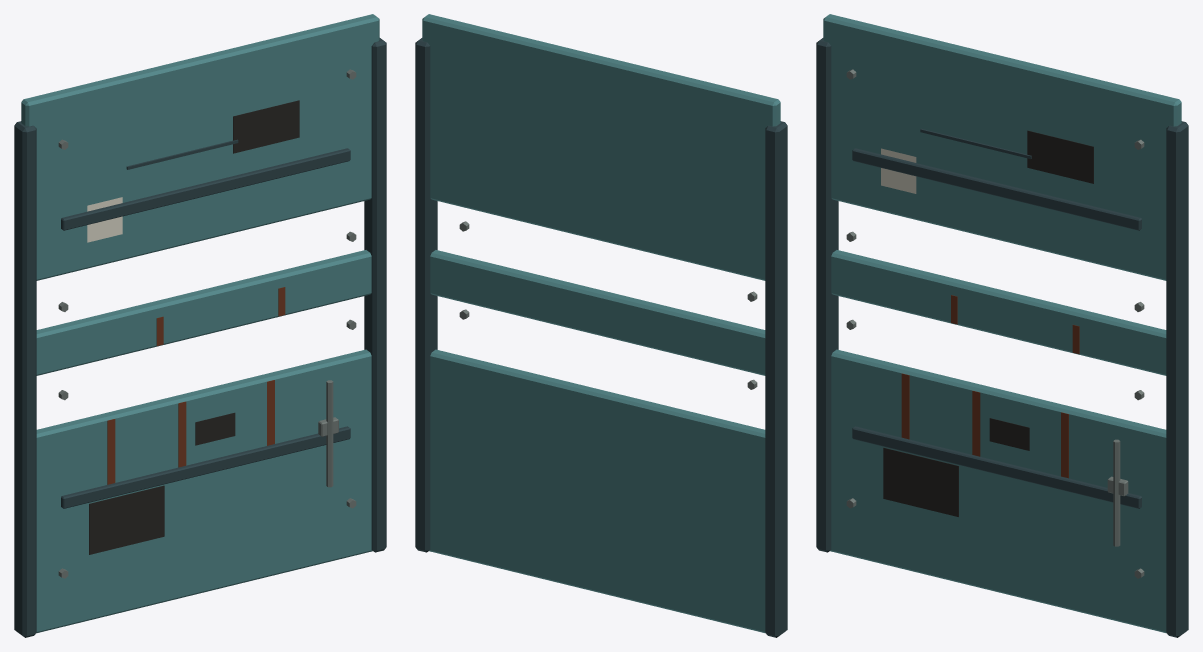
File: locker-interior-frame.glb
3 renders of one model, left to right at view 1: azimuth 30°, elevation 25°; view 2: azimuth 150°, elevation 25°; view 3: azimuth 330°, elevation 25°, orthographic.
Parts seen in each view (by area): view 1: locker-interior-frame__locker-interior-frame__petrol, locker-interior-frame__locker-interior-frame__steel, locker-interior-frame__locker-interior-frame__soot, locker-interior-frame__locker-interior-frame__rust, locker-interior-frame__locker-interior-frame__hardware, locker-interior-frame__locker-interior-frame__decal-ivory; view 2: locker-interior-frame__locker-interior-frame__petrol, locker-interior-frame__locker-interior-frame__steel; view 3: locker-interior-frame__locker-interior-frame__petrol, locker-interior-frame__locker-interior-frame__steel, locker-interior-frame__locker-interior-frame__soot, locker-interior-frame__locker-interior-frame__rust, locker-interior-frame__locker-interior-frame__hardware, locker-interior-frame__locker-interior-frame__decal-ivory.
Boxes of the visible parts, x1,y1,x2,y2 form: locker-interior-frame__locker-interior-frame__petrol: [21, 14, 379, 633]; locker-interior-frame__locker-interior-frame__steel: [14, 38, 386, 637]; locker-interior-frame__locker-interior-frame__soot: [89, 100, 299, 554]; locker-interior-frame__locker-interior-frame__rust: [107, 287, 285, 484]; locker-interior-frame__locker-interior-frame__hardware: [58, 69, 356, 578]; locker-interior-frame__locker-interior-frame__decal-ivory: [87, 197, 122, 242]; locker-interior-frame__locker-interior-frame__petrol: [422, 14, 780, 633]; locker-interior-frame__locker-interior-frame__steel: [415, 38, 787, 637]; locker-interior-frame__locker-interior-frame__petrol: [823, 14, 1181, 633]; locker-interior-frame__locker-interior-frame__steel: [816, 38, 1188, 637]; locker-interior-frame__locker-interior-frame__soot: [883, 130, 1093, 516]; locker-interior-frame__locker-interior-frame__rust: [901, 295, 1079, 478]; locker-interior-frame__locker-interior-frame__hardware: [846, 69, 1144, 578]; locker-interior-frame__locker-interior-frame__decal-ivory: [881, 148, 916, 193].
Bounding box in the file's own units: 1.65 × 2.3 × 0.118.
